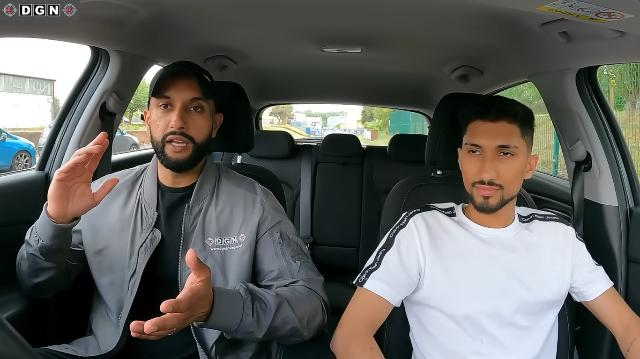no seatbelt: (65, 147, 287, 357), (361, 198, 596, 359)
